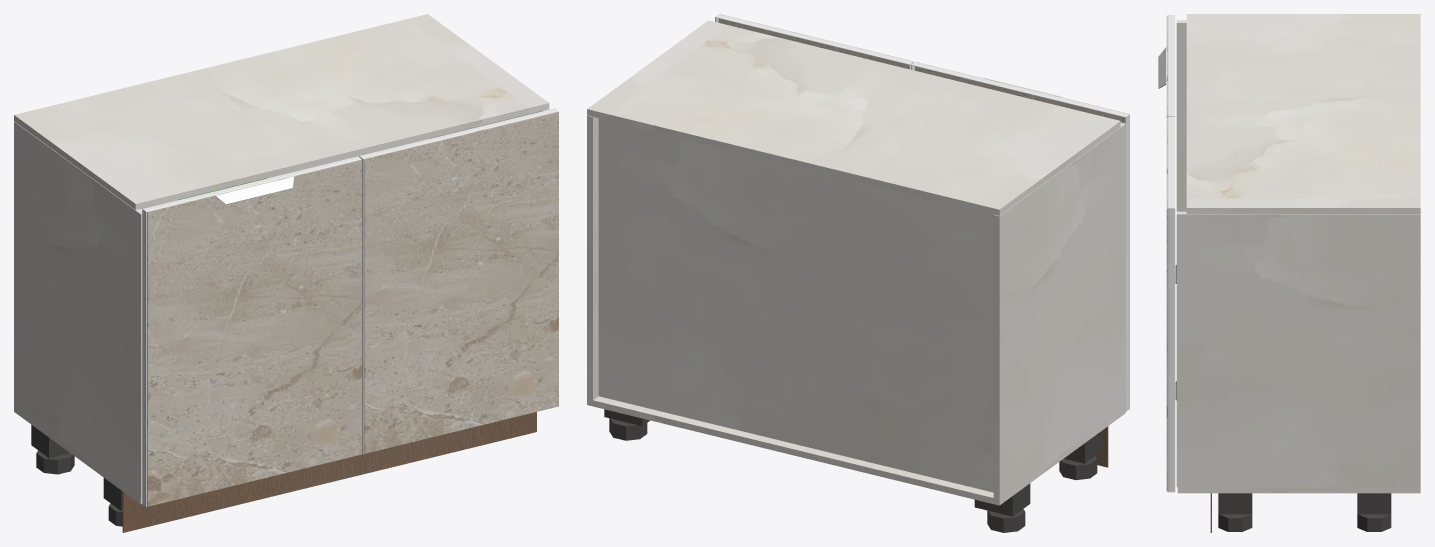
The model's file is S550_BBCLC1HS_RH_EH (H720xW1050xD560).glb.
3 renders of one model, left to right at view 1: azimuth 30°, elevation 25°; view 2: azimuth 150°, elevation 25°; view 3: azimuth 270°, elevation 25°, orthographic. The views are drawn at different scales.
Size of what is drawn, in the model's own units: 1.05 by 0.82 by 0.5999.
16 materials, 3 textured.
